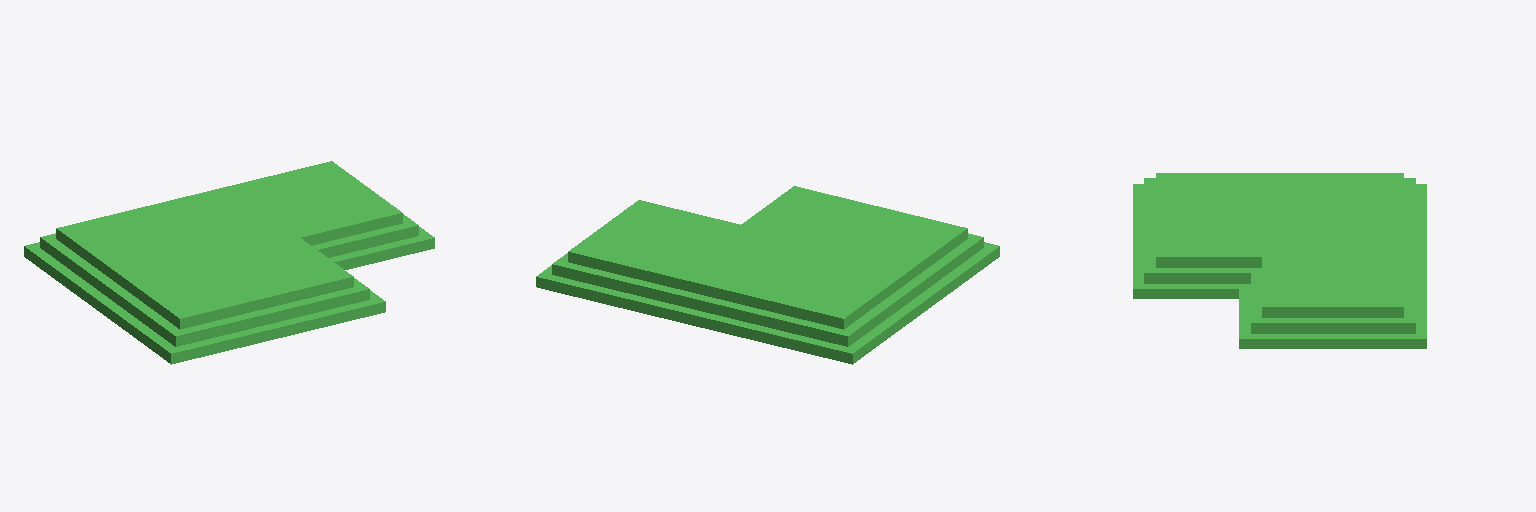
3 renders of one model, left to right at view 1: azimuth 30°, elevation 25°; view 2: azimuth 150°, elevation 25°; view 3: azimuth 270°, elevation 25°, orthographic.
Parts seen in each view (by area): view 1: roof; view 2: roof; view 3: roof.
Part boxes in pixels (x1,y1,x2,y2): roof: (24, 161, 434, 364); roof: (536, 186, 999, 364); roof: (1133, 173, 1426, 348).
Size of the model in its own units: 3.1 by 0.3 by 2.5.
Materials: 1 (1 with a texture image).